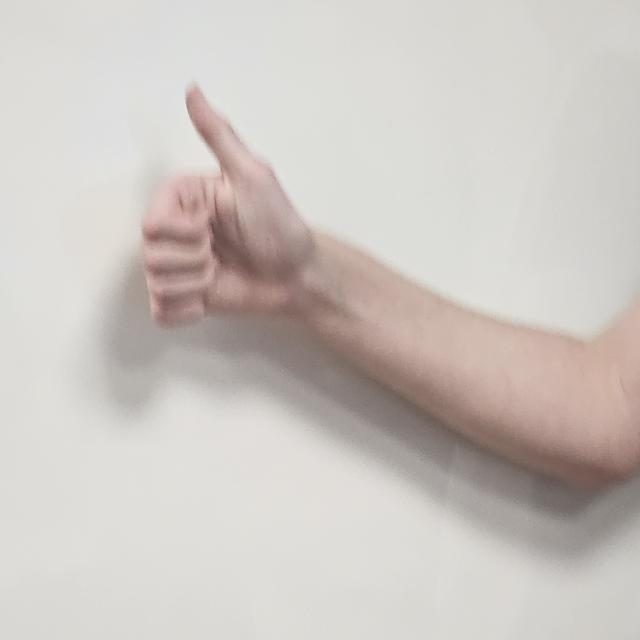Start: (144, 81, 312, 369)
